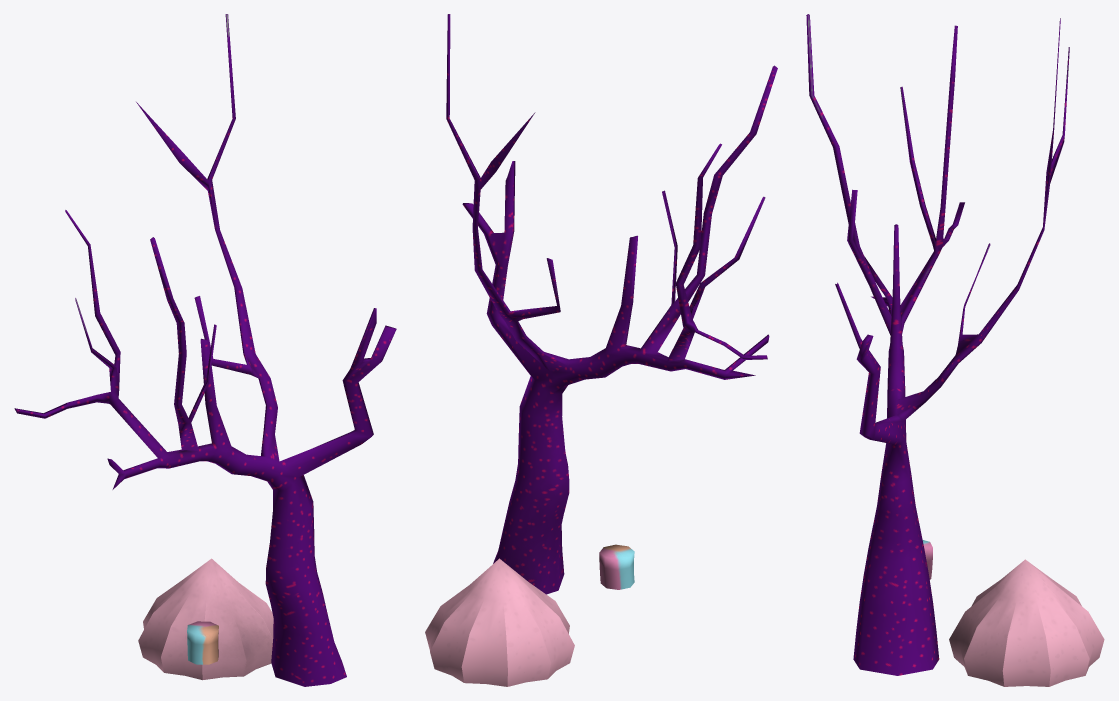
The model's file is SuspiroArvoreMarsh.fbx.
3 views of the same model, side by side, from view 1: azimuth 30°, elevation 25°; view 2: azimuth 150°, elevation 25°; view 3: azimuth 270°, elevation 25° (orthographic). The views are drawn at different scales.
Parts seen in each view (by area): view 1: Violetta_Arvore_1, Violetta_Suspiro_1, Violetta_Marshmellow_1; view 2: Violetta_Arvore_1, Violetta_Suspiro_1, Violetta_Marshmellow_1; view 3: Violetta_Arvore_1, Violetta_Suspiro_1.
Boxes of the visible parts, x1,y1,x2,y2 form: Violetta_Arvore_1: (14, 14, 396, 686); Violetta_Suspiro_1: (138, 558, 273, 680); Violetta_Marshmellow_1: (187, 621, 218, 664); Violetta_Arvore_1: (446, 14, 777, 594); Violetta_Suspiro_1: (425, 558, 574, 686); Violetta_Marshmellow_1: (599, 544, 634, 589); Violetta_Arvore_1: (806, 14, 1069, 675); Violetta_Suspiro_1: (949, 559, 1104, 686).
Bounding box in the file's own units: 11.48 × 20.2 × 8.31.
